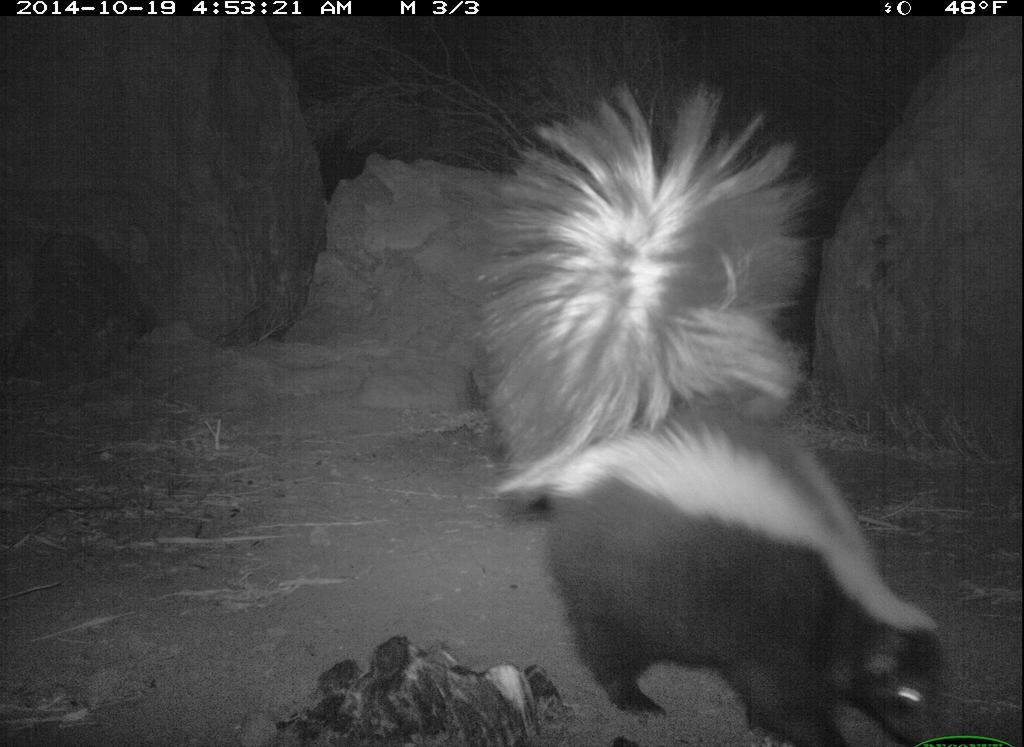skunk: (483, 90, 949, 747)
